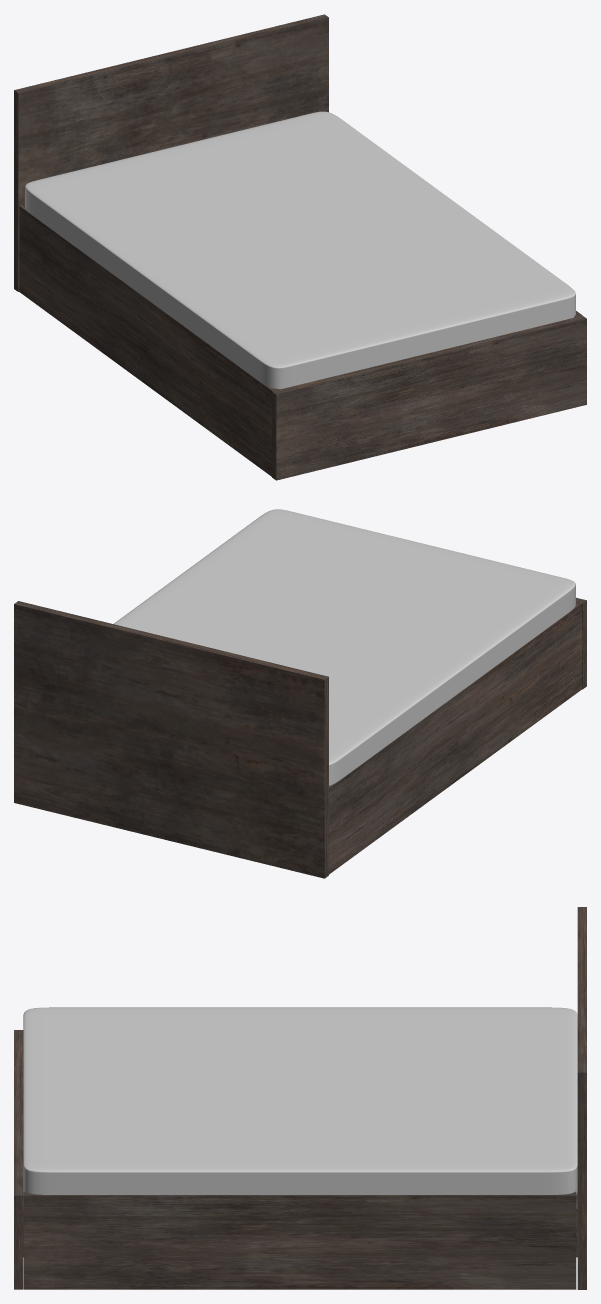
The model's file is UNONA.obj.
3 views of the same model, one above another, from view 1: azimuth 30°, elevation 25°; view 2: azimuth 150°, elevation 25°; view 3: azimuth 270°, elevation 25° (orthographic). The views are drawn at different scales.
Parts seen in each view (by area): view 1: Cube.003_Cube.004, Cube_Cube.001, Cube.001_Cube.002, Cube.005_Cube.006; view 2: Cube_Cube.001, Cube.003_Cube.004, Cube.005_Cube.006; view 3: Cube.003_Cube.004, Cube.004_Cube.005, Cube_Cube.001, Cube.001_Cube.002.
Boxes of the visible parts, x1=… form: Cube.003_Cube.004: x1=25, y1=111, x2=575, y2=389; Cube_Cube.001: x1=14, y1=14, x2=328, y2=291; Cube.001_Cube.002: x1=272, y1=315, x2=586, y2=480; Cube.005_Cube.006: x1=19, y1=205, x2=279, y2=476; Cube_Cube.001: x1=14, y1=601, x2=328, y2=878; Cube.003_Cube.004: x1=113, y1=509, x2=575, y2=785; Cube.005_Cube.006: x1=329, y1=602, x2=581, y2=874; Cube.003_Cube.004: x1=23, y1=1007, x2=577, y2=1194; Cube.004_Cube.005: x1=23, y1=1191, x2=576, y2=1289; Cube_Cube.001: x1=577, y1=907, x2=586, y2=1289; Cube.001_Cube.002: x1=14, y1=1030, x2=23, y2=1289.
Size of the model in its own units: 2.78 by 1.7 by 4.06.
